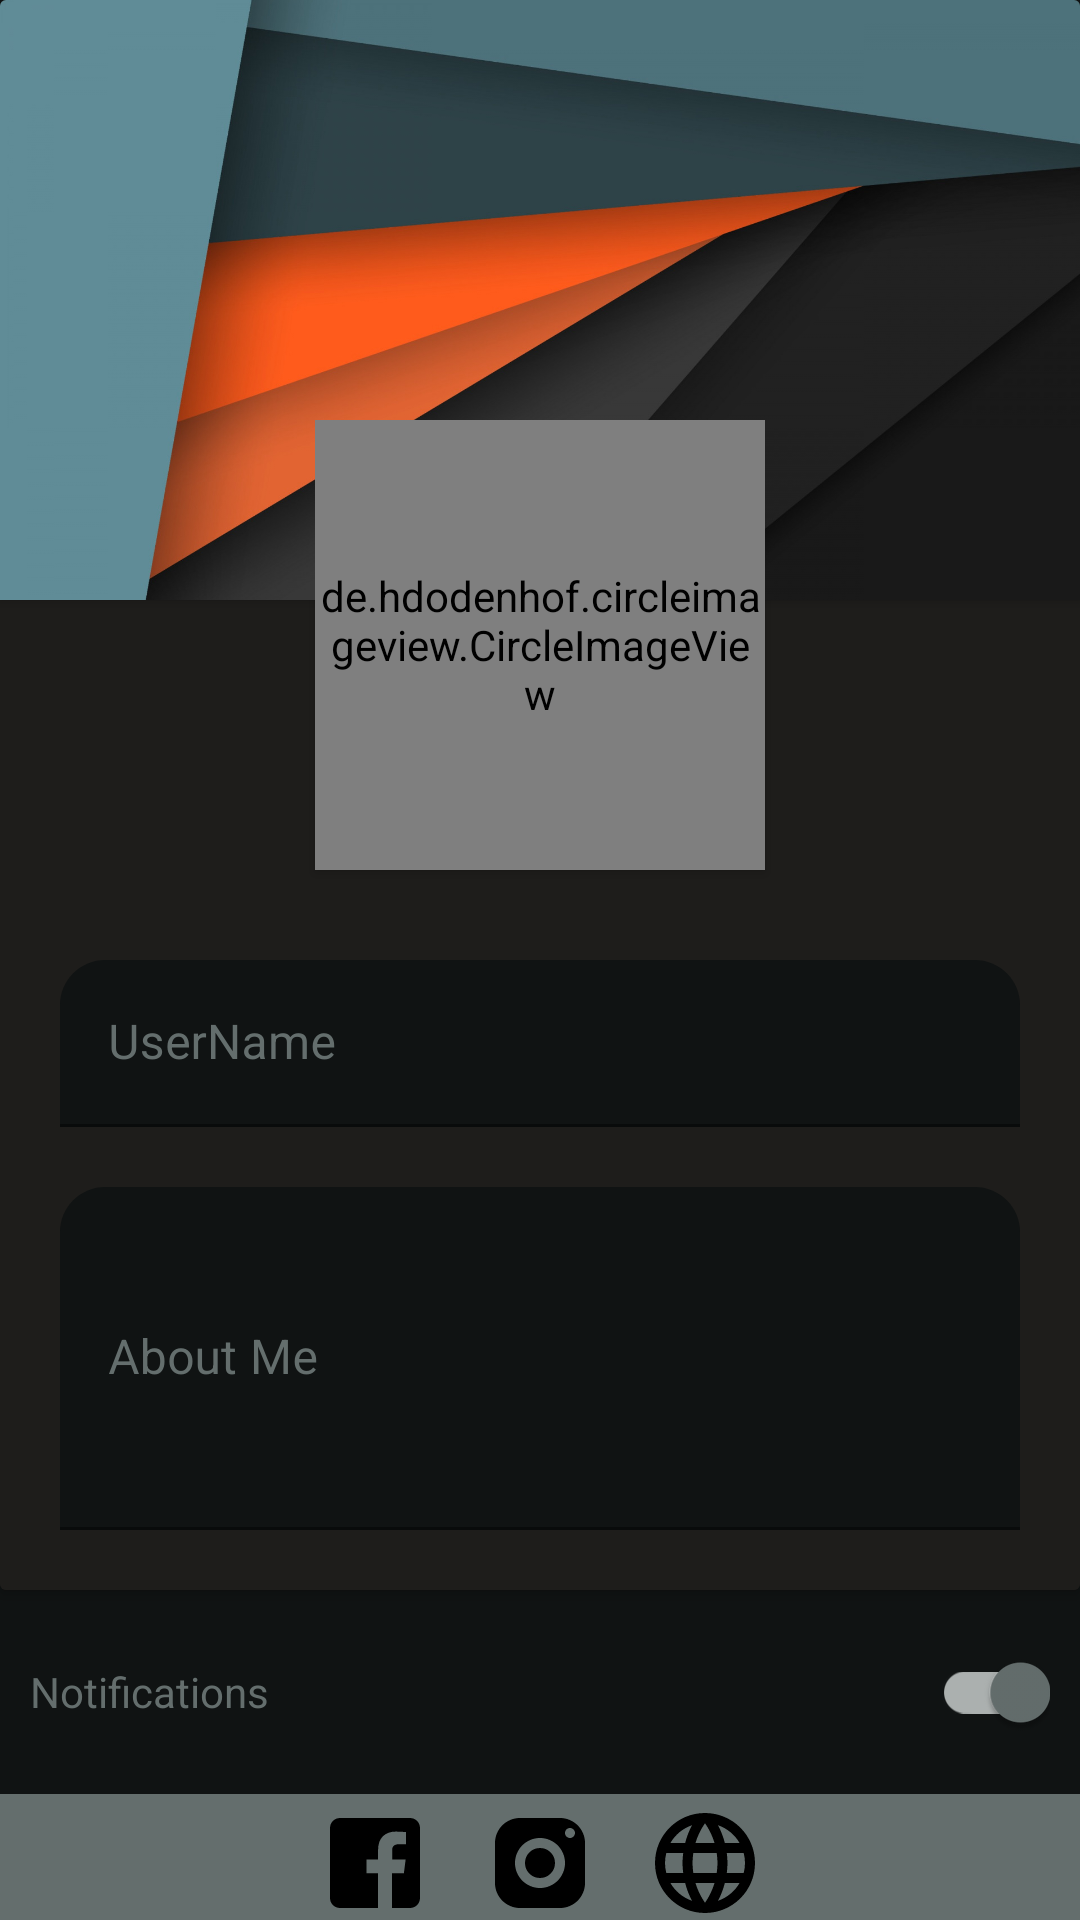

Locate icon controls on the screen. Image size 1080*1920, boxes as {"x1": x1, "y1": y1, "x2": x2, "y2": y2}.
website: {"x1": 655, "y1": 1813, "x2": 755, "y2": 1913}
